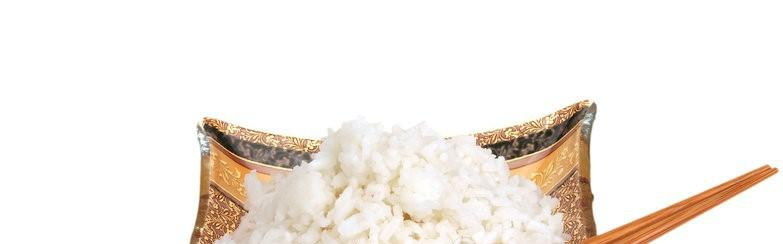WhiteRice: (210, 115, 576, 244)
